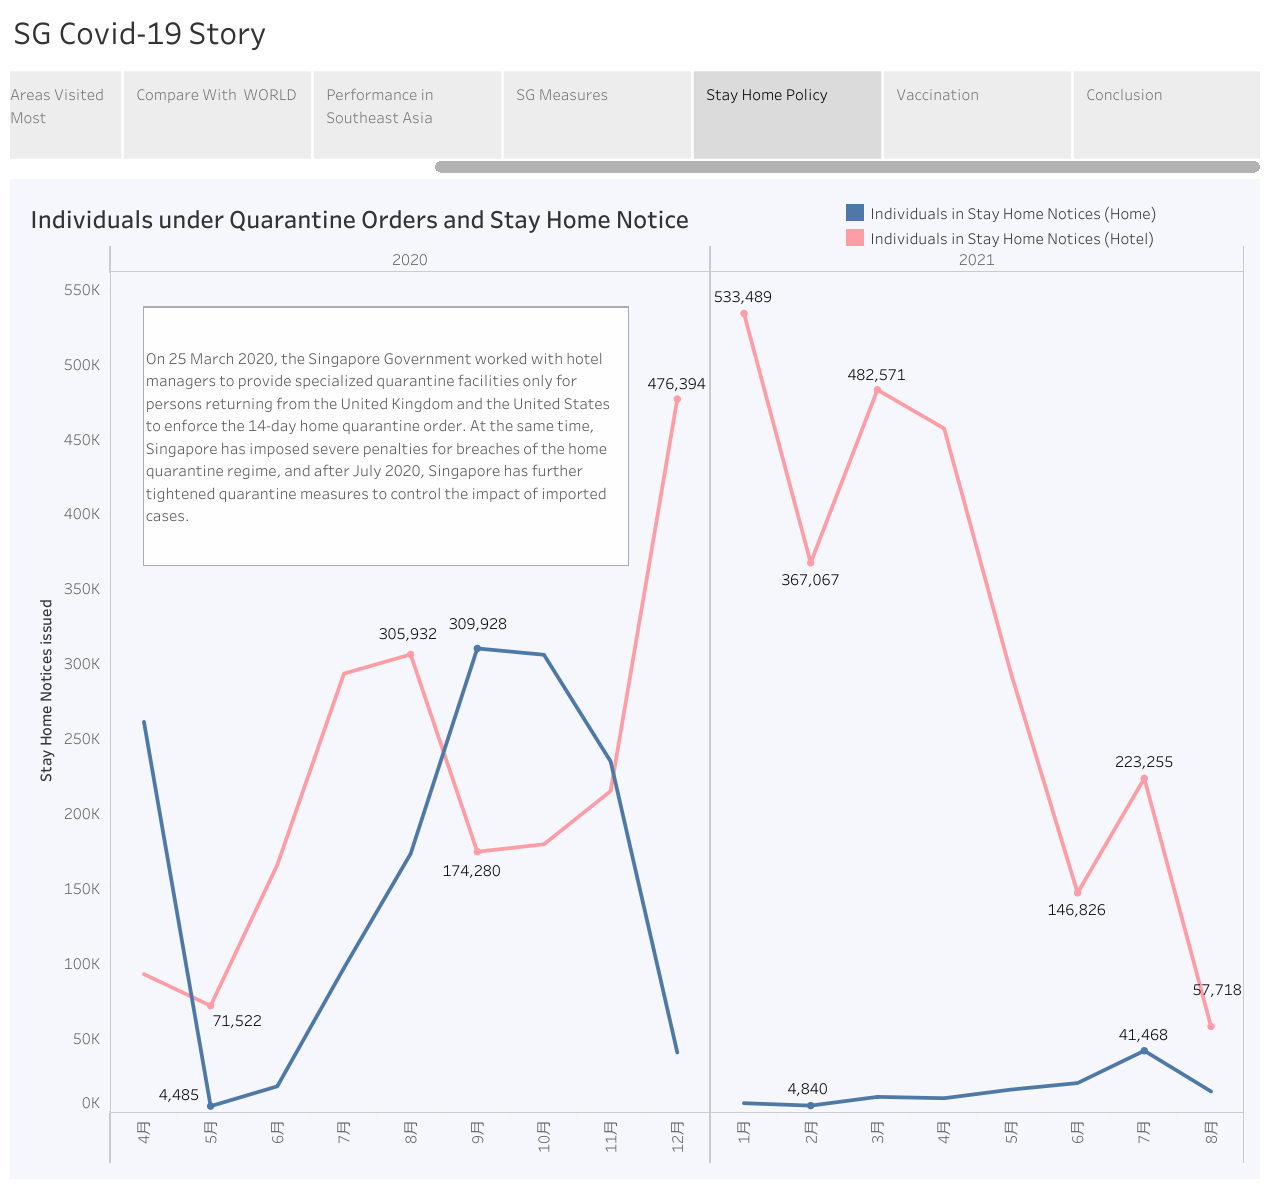

This screenshot's page, from the dashboard's own definition file:
{"tool":"tableau","page":{"name":"Quarantine\\","canvas":[1000,800],"ordinal":3},"visuals":[{"type":"worksheet","title":"Individuals under Quarantine Orders and Stay Home Notice","mark":"Automatic","cols":["F1","F1"],"box":[8,8,984,784]},{"type":"legend","title":"Individuals under Quarantine Orders and Stay Home Notice","param":"[federated.11osdnq08jsdf013iujwx0e50yeq].[:Measure Names]","box":[666,17,314,64]}]}

Visuals, with their boxes on the page's 1000x800 design canvas (x1, y1, x2, y2). These are canvas units, not pixel positions in the 1269x1204 screenshot, which may show the page scaled, cropped or inside an application window:
"Individuals under Quarantine Orders and Stay Home Notice" worksheet: (8, 8, 992, 792)
"Individuals under Quarantine Orders and Stay Home Notice" legend: (666, 17, 980, 81)
